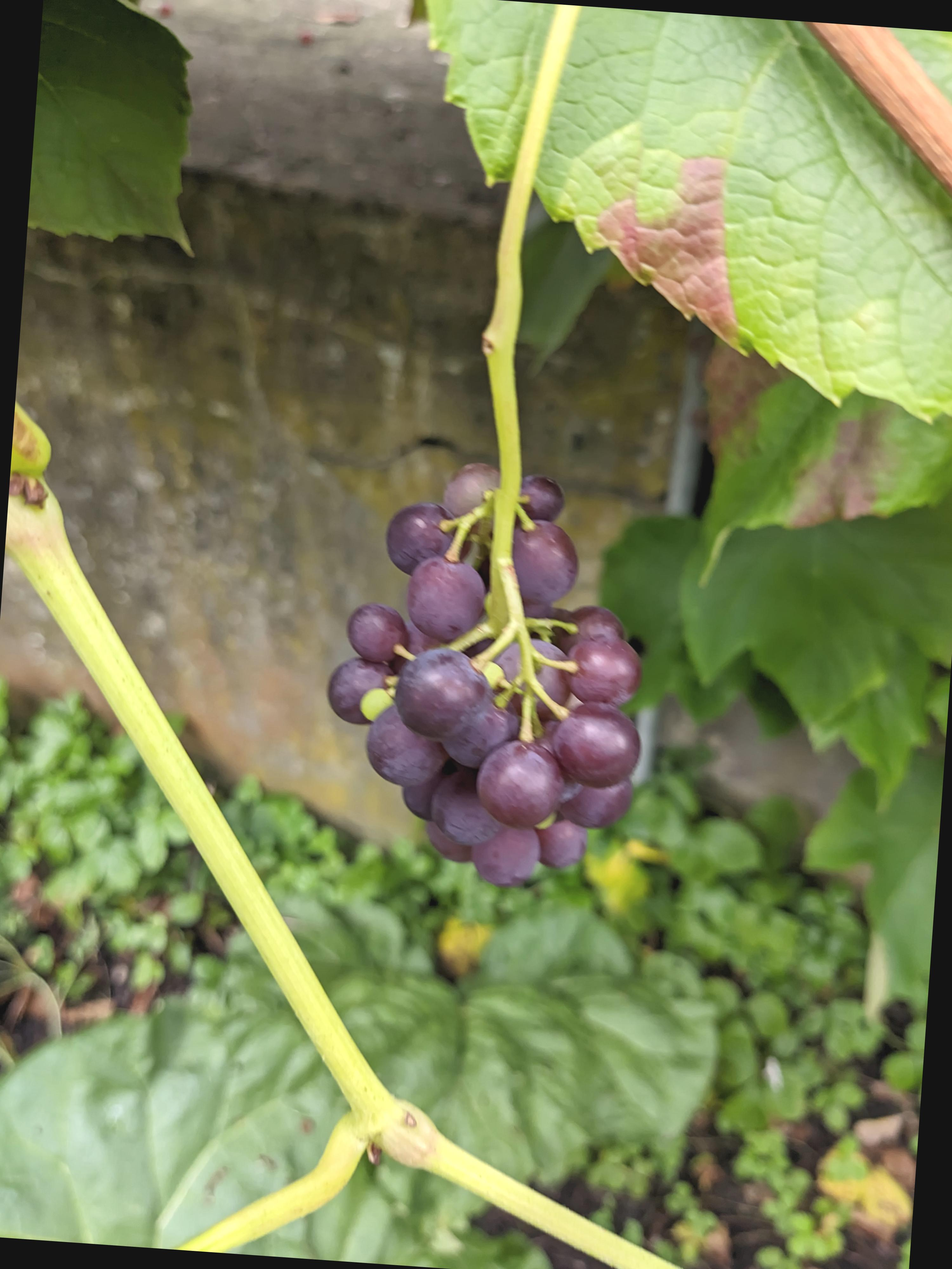Grape Unripe: (359, 423, 710, 873)
